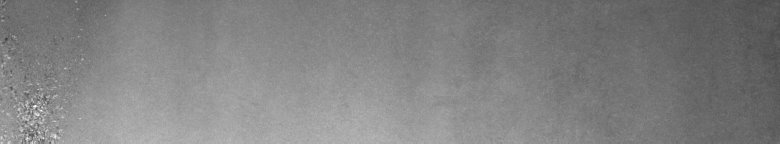hc: (4, 30, 84, 136)
